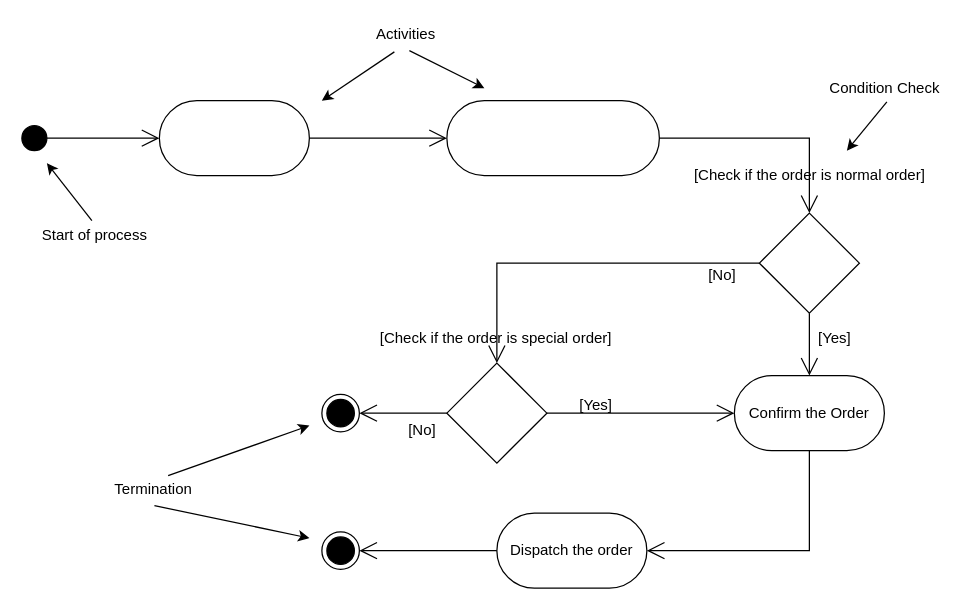
Image size: 969x610. Some labels were removed from this diagram. The shapes that lost their labels are listed below. From the top down, each one's centre as x and y in pixels, then its label:
At pixel 233 137: "Customer sends an order request".
At pixel 552 137: "Order Request System confirms the receipt of the order".
